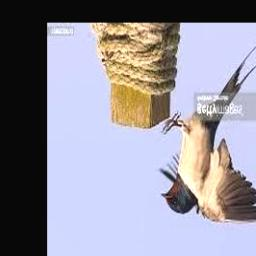Swallow: (159, 32, 256, 224)
